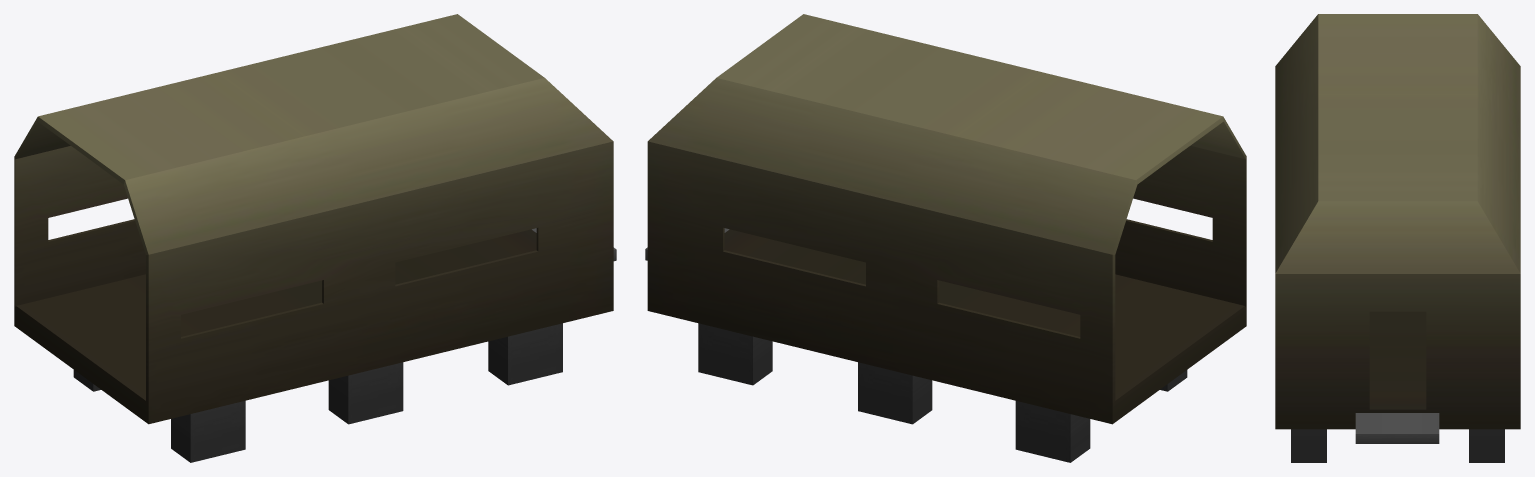
Rendered from train_half_empty_placeholder_v001.fbx.
The picture shows the model from 3 angles, left to right: view 1: azimuth 30°, elevation 25°; view 2: azimuth 150°, elevation 25°; view 3: azimuth 270°, elevation 25°; orthographic projection. The views are drawn at different scales.
Parts seen in each view (by area): view 1: body; view 2: body; view 3: body, übergang.
Part boxes in pixels (x1,y1,x2,y2): body: (14,14,613,462); body: (647,14,1246,462); body: (1275,14,1520,462); übergang: (1355,413,1439,443).
Bounding box in the file's own units: 300 × 351 × 662.
